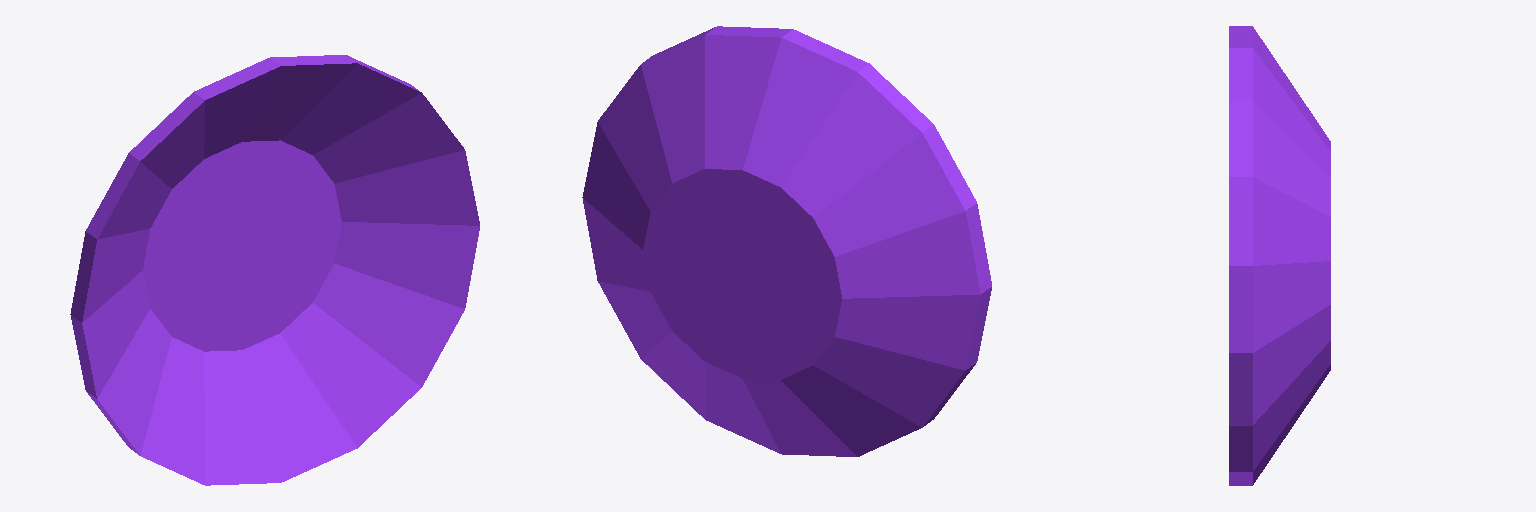
File: MDLSat_Antenna.obj
3 views of the same model, side by side, from view 1: azimuth 30°, elevation 25°; view 2: azimuth 150°, elevation 25°; view 3: azimuth 270°, elevation 25° (orthographic).
Parts seen in each view (by area): view 1: Cylinder2; view 2: Cylinder2; view 3: Cylinder2.
Part boxes in pixels (x1,y1,x2,y2): Cylinder2: (70, 55, 479, 485); Cylinder2: (582, 26, 991, 456); Cylinder2: (1229, 26, 1330, 485).
Bounding box in the file's own units: 0.5 × 0.5 × 0.1099.